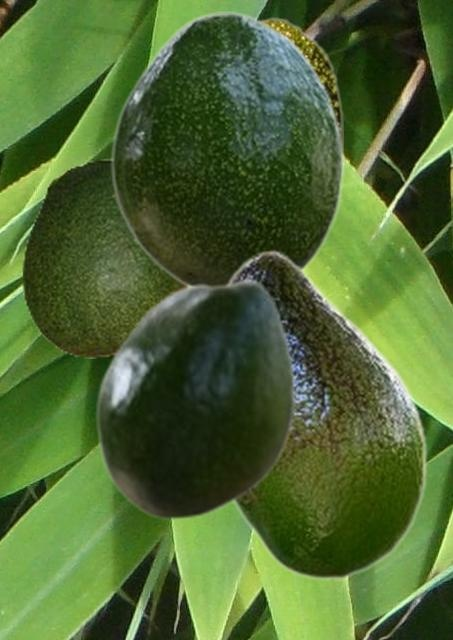avocado: (222, 249, 427, 579), (110, 11, 343, 285), (94, 277, 295, 520), (21, 157, 181, 357), (262, 17, 342, 132)
